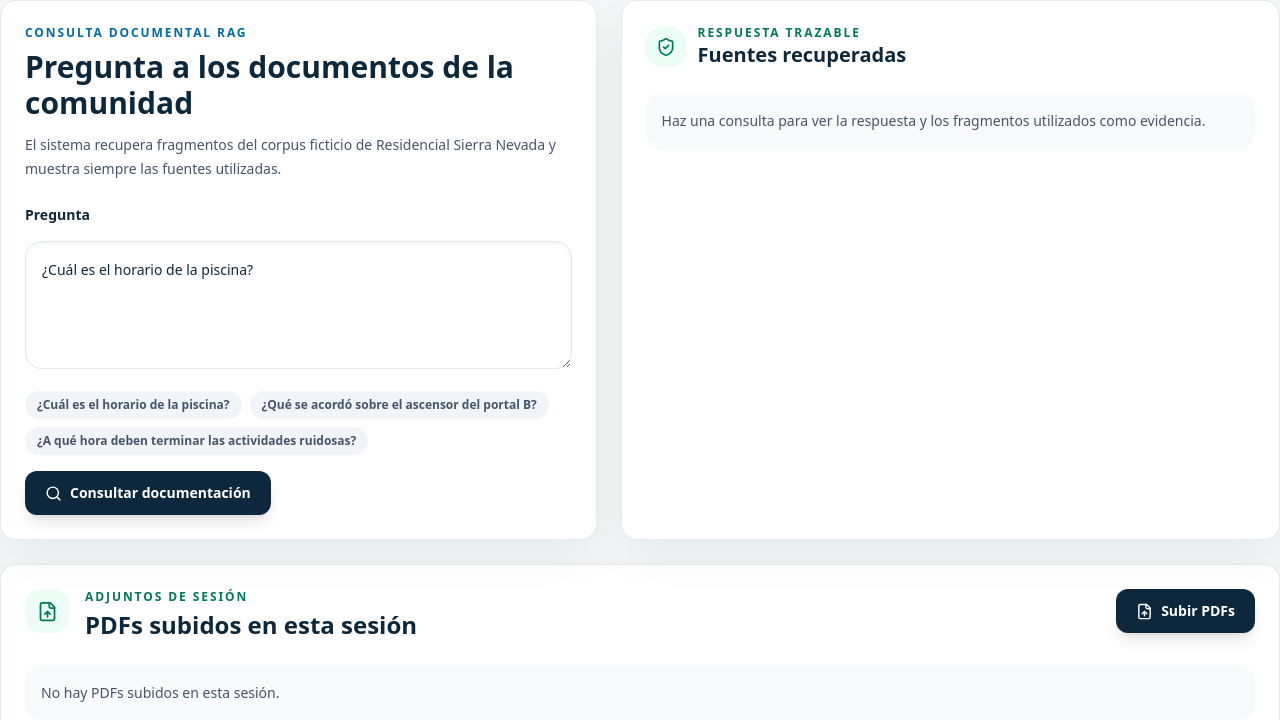
it: DocumentQueryPanel › muestra fallback local con fuentes cuando falla la API
This screenshot has width=1280, height=720.
Click the button "Consultar documentación" at (148, 493), box [25,471,271,515]
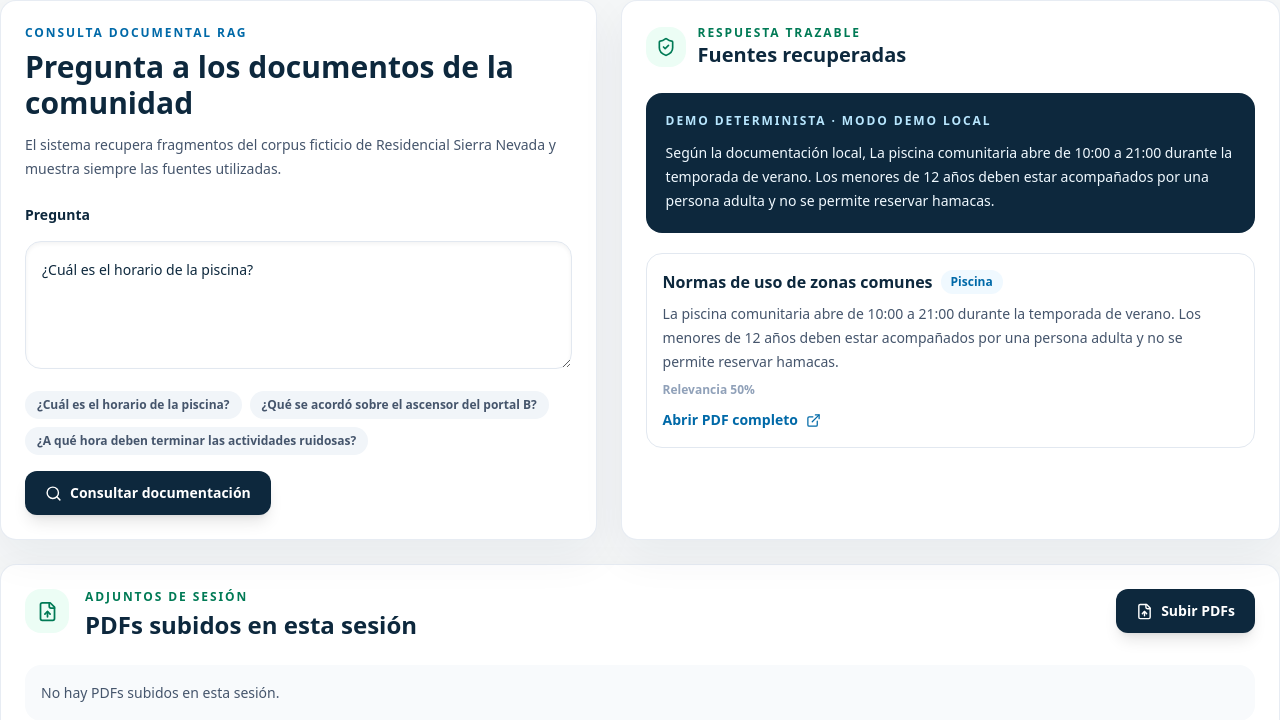
Expected: the text "Demo determinista · Modo demo local" is shown, [666,112,992,129]
Expected: the heading "Normas de uso de zonas comunes" is shown, [663,270,933,294]
